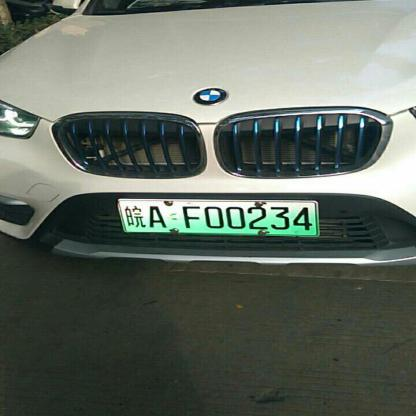lp: (118, 200, 318, 234)
